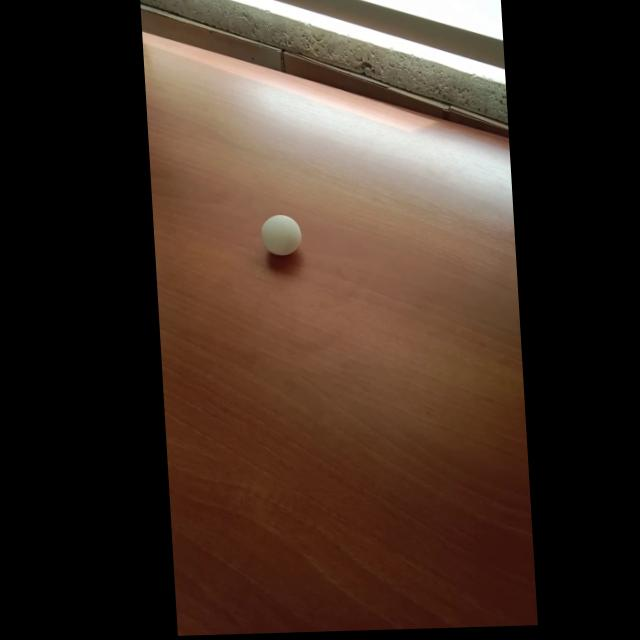white ball: (259, 214, 302, 257)
